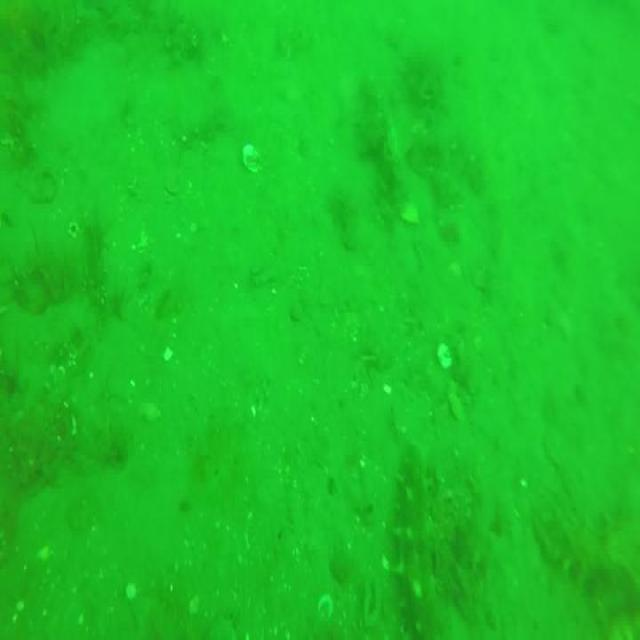holothurian: (548, 494, 639, 640), (391, 445, 434, 640)
scallop: (242, 142, 262, 177), (436, 343, 455, 374), (400, 201, 420, 229), (316, 593, 334, 624), (139, 404, 161, 422), (124, 582, 138, 600), (188, 591, 198, 613)
